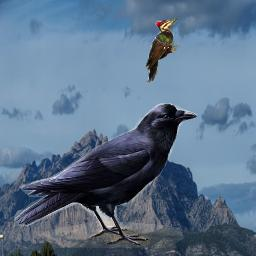Crow: (14, 103, 197, 248)
Woodpecker: (145, 17, 180, 83)
